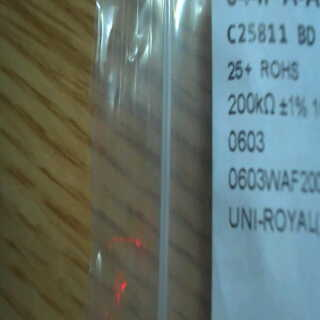200kR: (221, 87, 279, 121)
